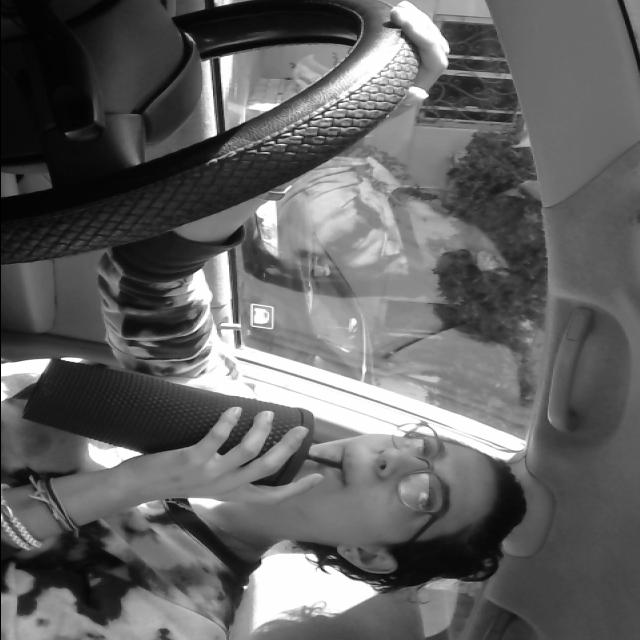drinking: (18, 346, 344, 490)
